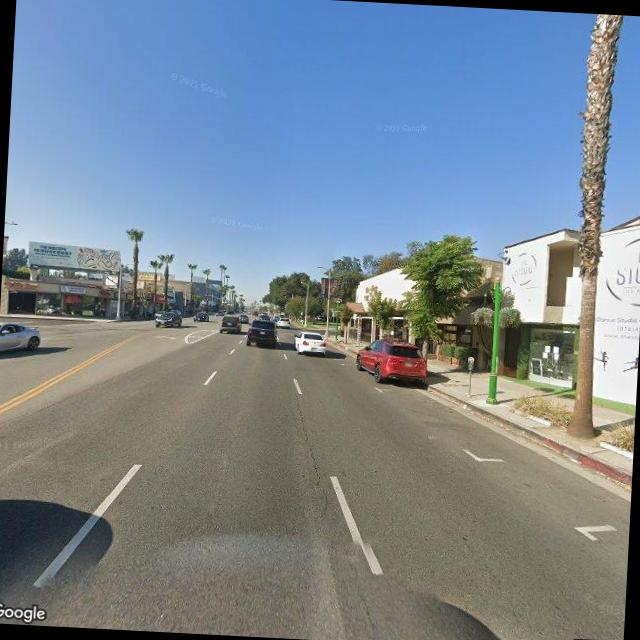crack: (283, 376, 338, 518)
